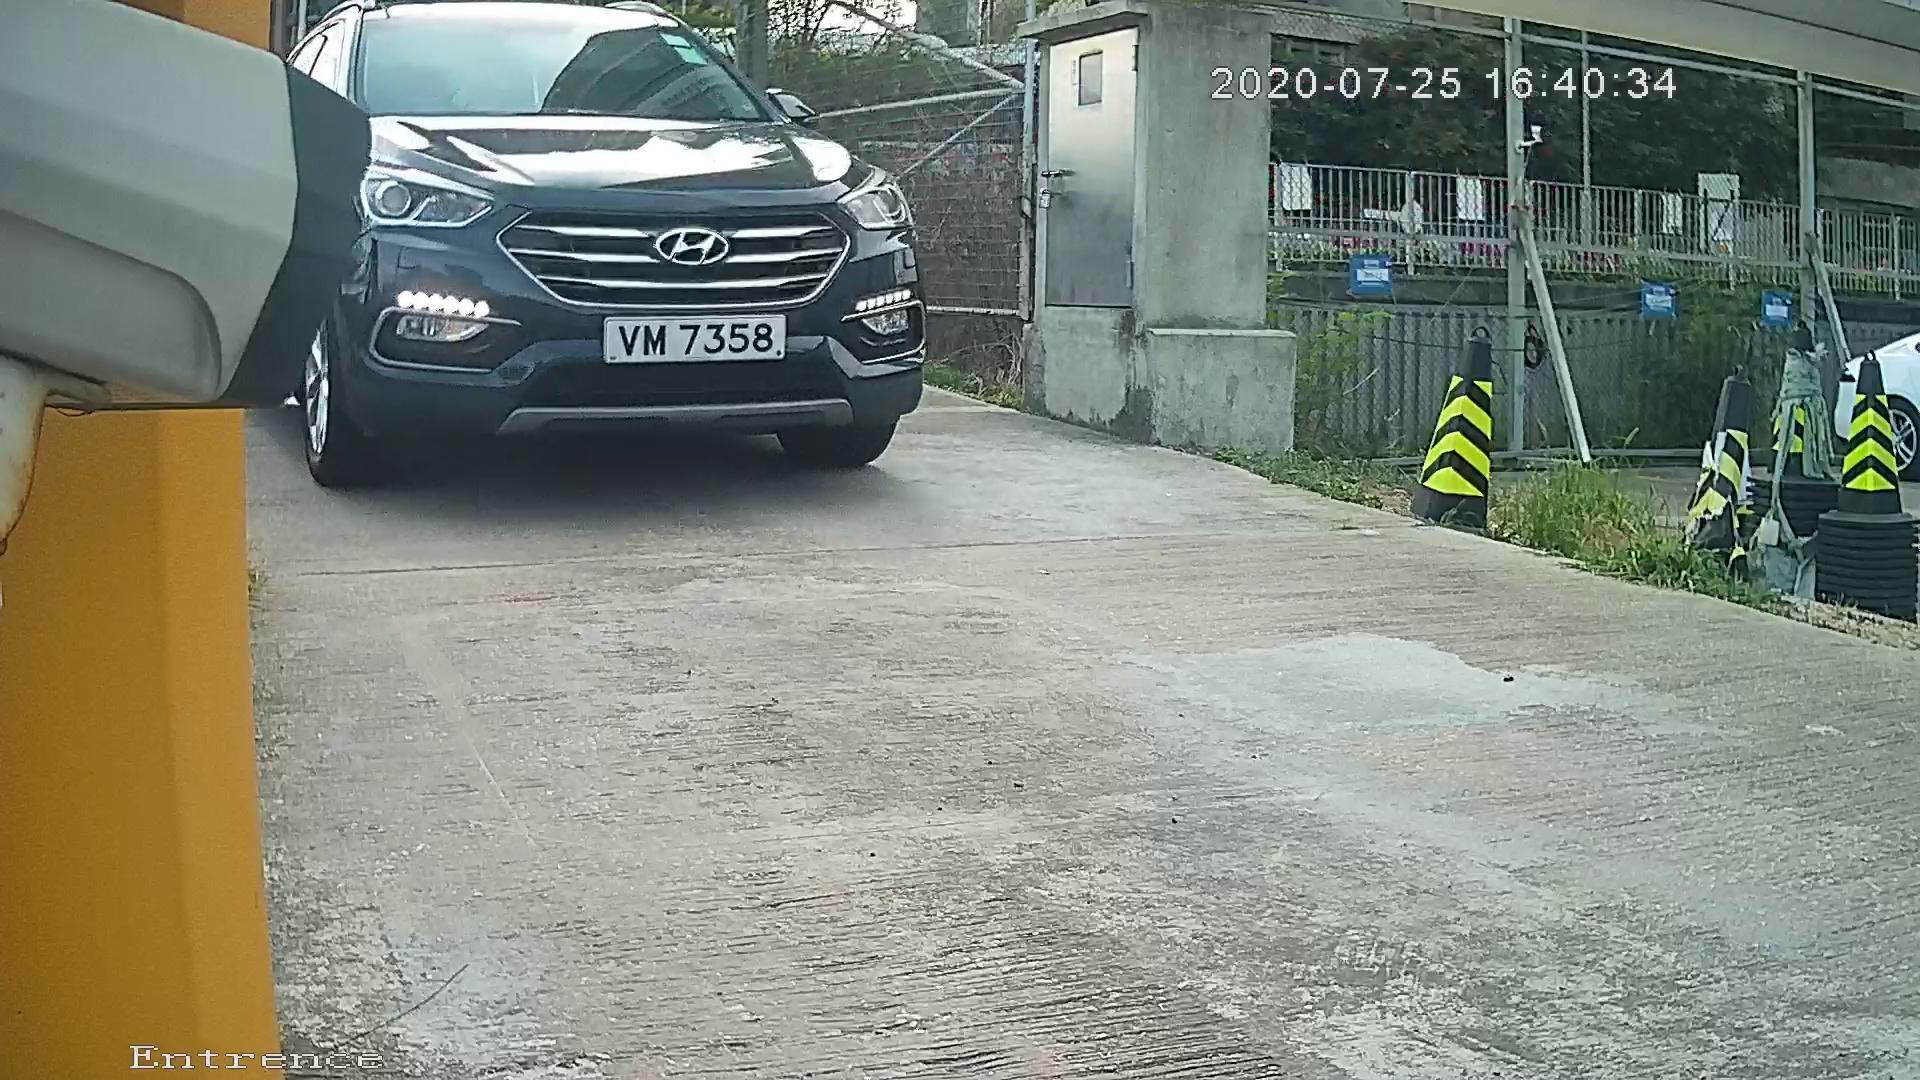privatecar: (232, 11, 1011, 521)
